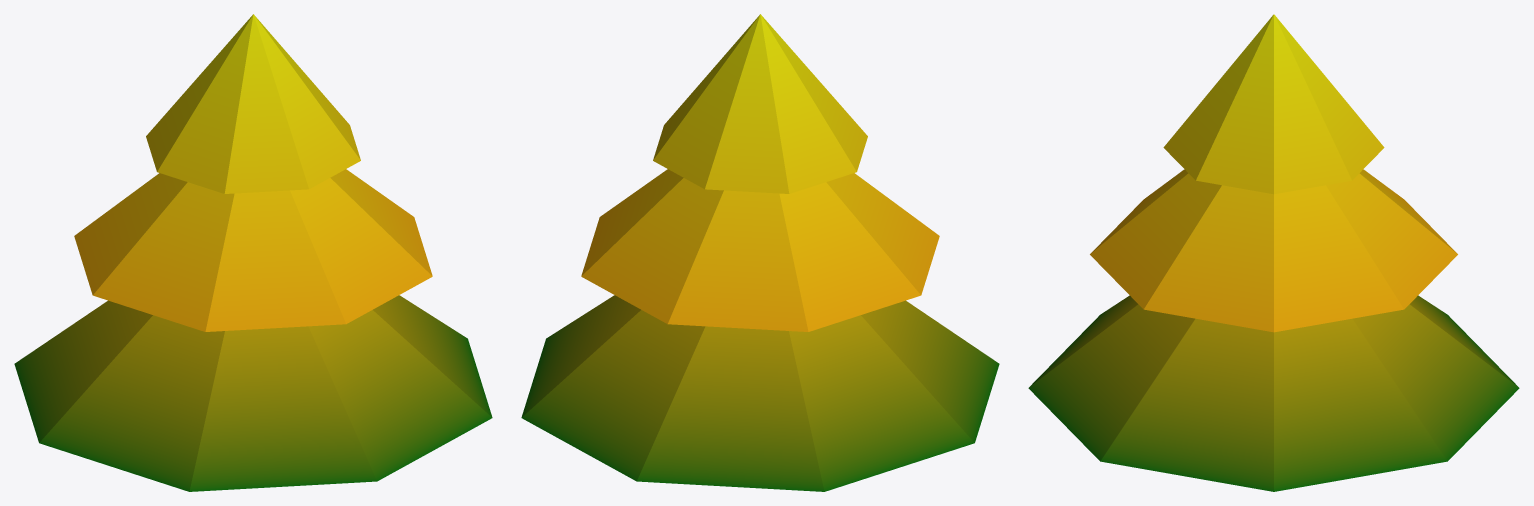
The model's file is specific_needleleaf_evergreen_subalpine.glb.
3 renders of one model, left to right at view 1: azimuth 30°, elevation 25°; view 2: azimuth 150°, elevation 25°; view 3: azimuth 270°, elevation 25°, orthographic.
Parts seen in each view (by area): view 1: specific_needleleaf_spire; view 2: specific_needleleaf_spire; view 3: specific_needleleaf_spire.
Part boxes in pixels (x1,y1,x2,y2): specific_needleleaf_spire: (14, 14, 492, 491); specific_needleleaf_spire: (521, 14, 999, 491); specific_needleleaf_spire: (1028, 14, 1519, 491).
Bounding box in the file's own units: 1 × 1 × 1.
